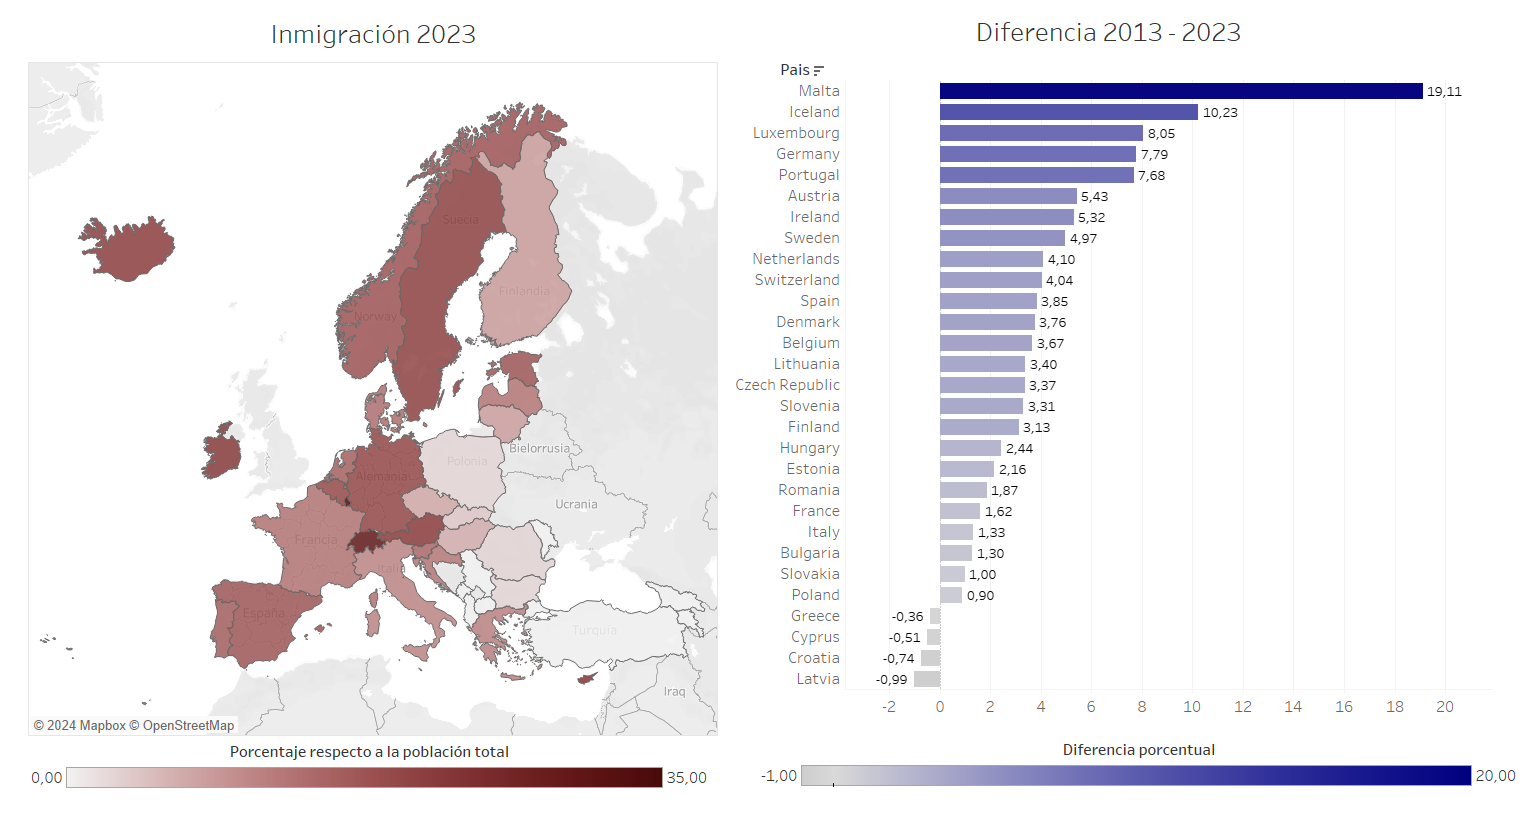

The page's visual inventory and layout, read from the dashboard file:
{"tool":"tableau","page":{"name":"Dashboard 1","canvas":[1500,800],"ordinal":0},"visuals":[{"type":"worksheet","title":"Hoja 2","mark":"Bar","rows":["Pais"],"cols":["Dif_10"],"box":[700,0,788,726]},{"type":"worksheet","title":"Hoja 1","mark":"Multipolygon","box":[2.8,2,690,724]},{"type":"legend","title":"Hoja 2","param":"[federated.1hrxnbx03beon012ob0eg0uv3s85].[none:Dif_10:qk]","box":[732,729,764,66]},{"type":"legend","title":"Hoja 1","param":"[federated.1aiqnax1tzq61o1g2kt320me84qg].[avg:Porcentaje:qk]","box":[1.9,731,685.3,67]}]}

Visuals, with their boxes in screenshot pixels (x1, y1, x2, y2), scaled from the page's 1500x800 canvas onto the 1534x819 screenshot:
"Hoja 2" worksheet (Bar marks): bbox=[716, 0, 1522, 743]
"Hoja 1" worksheet (Multipolygon marks): bbox=[3, 2, 709, 743]
"Hoja 2" legend: bbox=[749, 746, 1530, 814]
"Hoja 1" legend: bbox=[2, 748, 703, 817]
